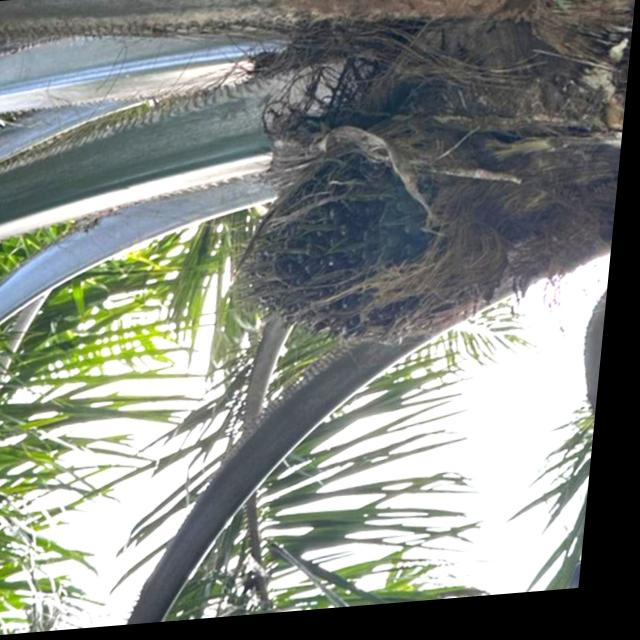almost: (222, 140, 468, 360)
